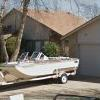Boat: (2, 47, 85, 86)
